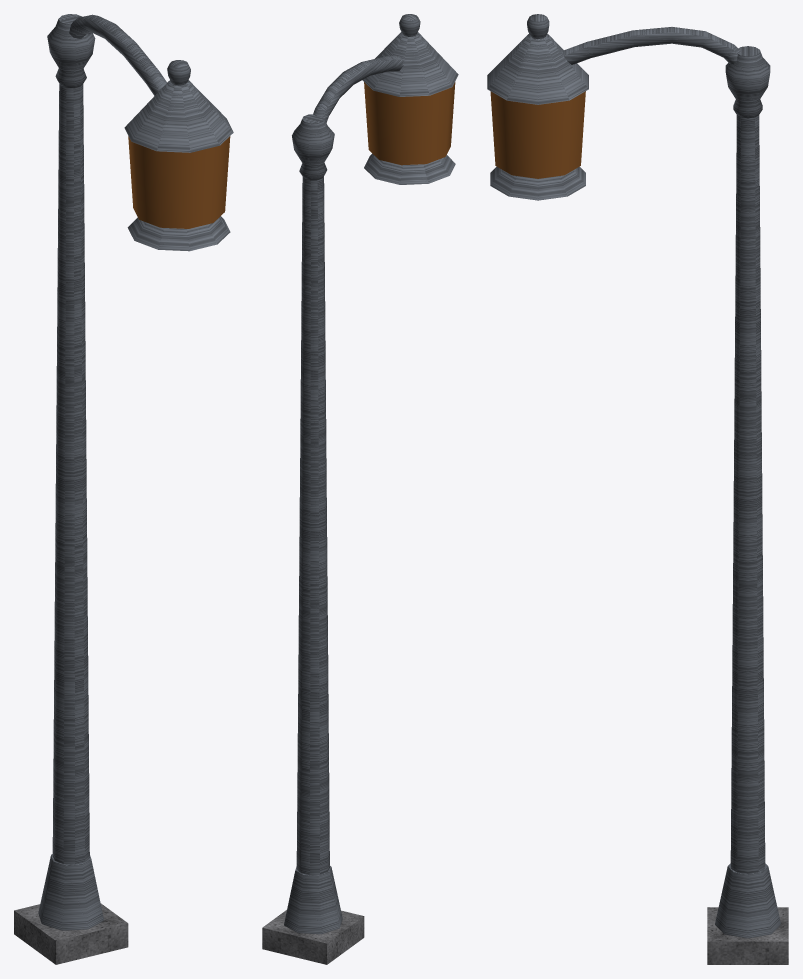
The model's file is street_lamp_1950.fbx.
3 renders of one model, left to right at view 1: azimuth 30°, elevation 25°; view 2: azimuth 150°, elevation 25°; view 3: azimuth 270°, elevation 25°, orthographic. The views are drawn at different scales.
Visible parts, largest first — view 1: street_lamp_1950; view 2: street_lamp_1950; view 3: street_lamp_1950.
Boxes of the visible parts, x1,y1,x2,y2 form: street_lamp_1950: [14, 14, 233, 964]; street_lamp_1950: [262, 14, 458, 964]; street_lamp_1950: [487, 14, 788, 964].
Size of the model in its own units: 50 by 481 by 141.
